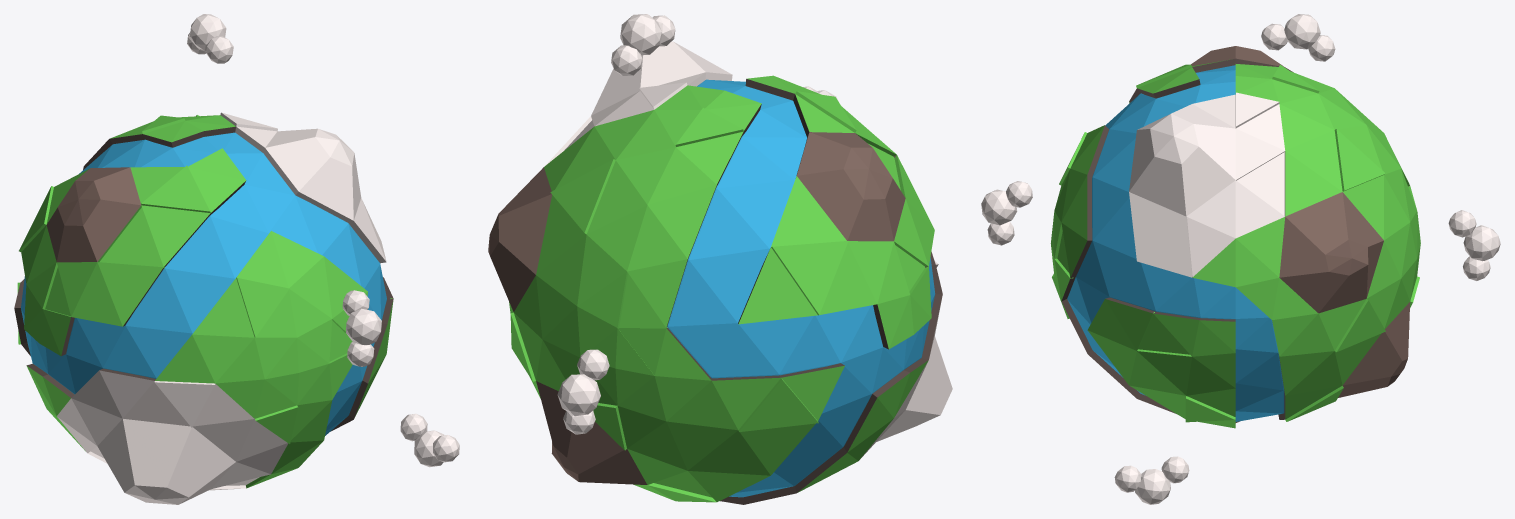
The model's file is earth.fbx.
The picture shows the model from 3 angles, left to right: view 1: azimuth 30°, elevation 25°; view 2: azimuth 150°, elevation 25°; view 3: azimuth 270°, elevation 25°; orthographic projection. The views are drawn at different scales.
Visible parts, largest first — view 1: Sphere, Sphere_1, Sphere_8, Sphere_5, Sphere_11, Sphere_7, Sphere_12, Sphere_13, Sphere_10, Sphere_9; view 2: Sphere, Sphere_1, Sphere_2, Sphere_5, Sphere_6, Sphere_4, Sphere_3; view 3: Sphere, Sphere_1, Sphere_5, Sphere_2, Sphere_11, Sphere_8, Sphere_4, Sphere_13, Sphere_12, Sphere_9.
Boxes of the visible parts, x1,y1,x2,y2 form: Sphere: [14, 112, 393, 504]; Sphere_1: [21, 132, 386, 435]; Sphere_8: [346, 308, 381, 345]; Sphere_5: [189, 14, 226, 50]; Sphere_11: [414, 430, 444, 467]; Sphere_7: [206, 36, 233, 63]; Sphere_12: [433, 435, 459, 462]; Sphere_13: [400, 413, 427, 441]; Sphere_10: [347, 342, 374, 366]; Sphere_9: [342, 290, 369, 315]; Sphere: [488, 41, 952, 504]; Sphere_1: [667, 79, 935, 497]; Sphere_2: [557, 374, 600, 416]; Sphere_5: [620, 14, 661, 55]; Sphere_6: [611, 45, 642, 75]; Sphere_4: [577, 349, 609, 380]; Sphere_3: [563, 410, 595, 434]; Sphere: [1050, 46, 1420, 428]; Sphere_1: [1067, 65, 1284, 421]; Sphere_5: [1284, 14, 1320, 49]; Sphere_2: [1463, 225, 1500, 261]; Sphere_11: [1135, 469, 1170, 504]; Sphere_8: [981, 189, 1017, 225]; Sphere_4: [1448, 210, 1476, 237]; Sphere_13: [1161, 456, 1189, 483]; Sphere_12: [1114, 465, 1141, 492]; Sphere_9: [1006, 181, 1032, 207].
Size of the model in its own units: 2226 by 2495 by 2808.
